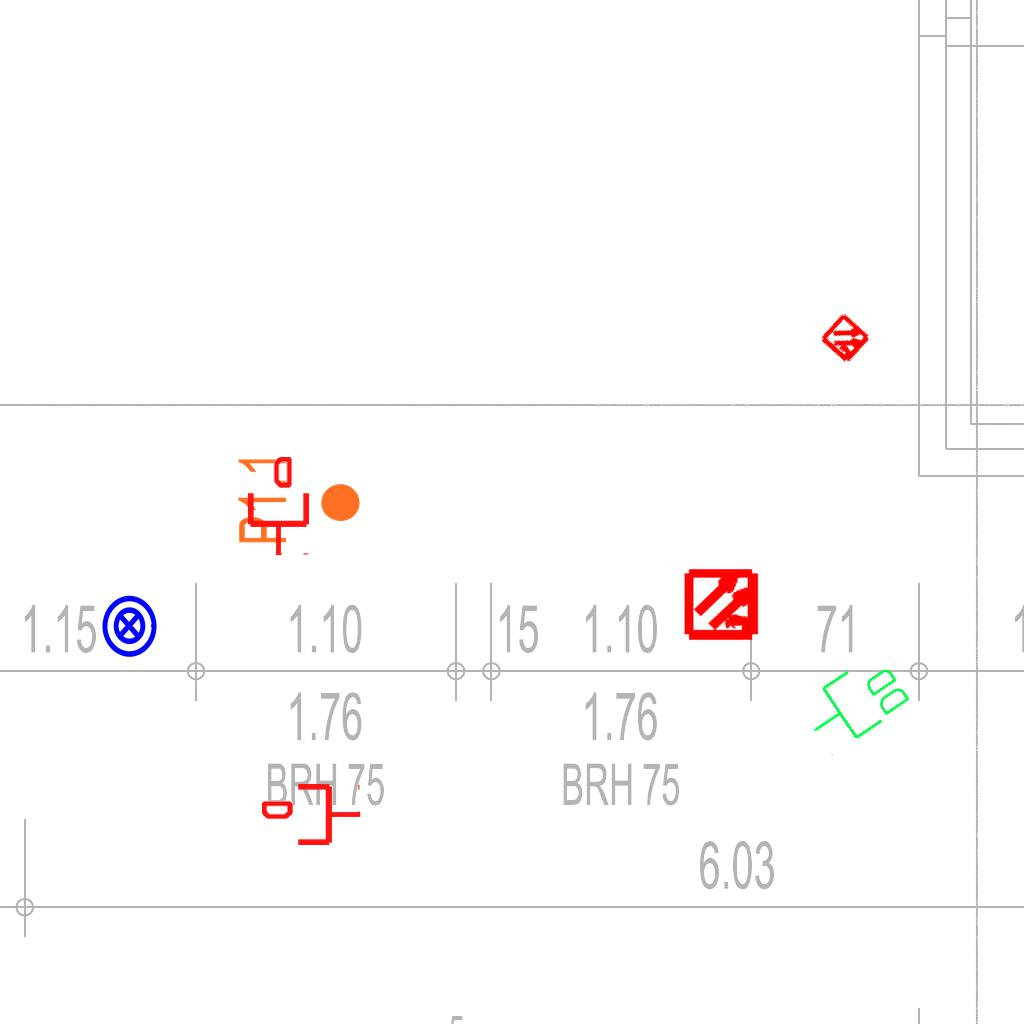Datenanschluss_einfach: (262, 780, 362, 849), (244, 457, 313, 557)
Datenanschluss_zweifach: (793, 646, 918, 761)
Downlight_LED_Einbauleuchten_Flur: (235, 453, 363, 546)
OT_Multisensormelder_(Kombination_RMO_WMD): (667, 548, 780, 661), (806, 299, 886, 379)
Taster_beleuchtet: (96, 593, 162, 659)
